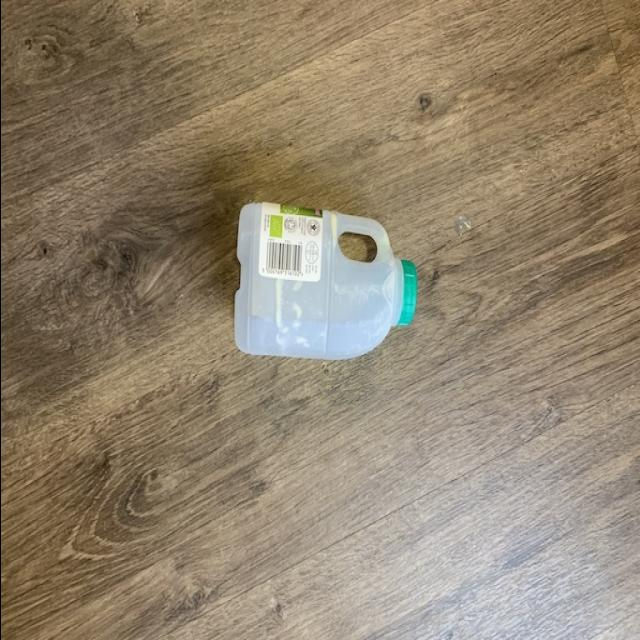litter: (228, 198, 418, 360)
